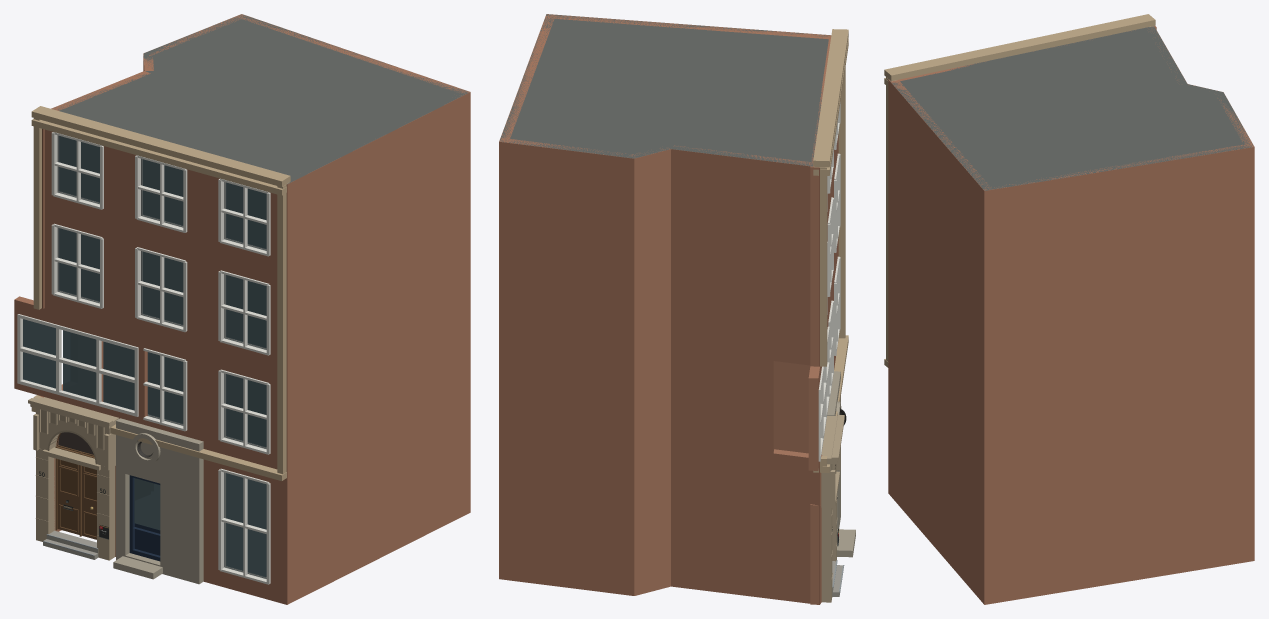
File: 50l-exterior-23815fb31fcf.glb
3 renders of one model, left to right at view 1: azimuth 30°, elevation 25°; view 2: azimuth 150°, elevation 25°; view 3: azimuth 270°, elevation 25°, orthographic. The views are drawn at different scales.
Parts seen in each view (by area): view 1: 50L.001; view 2: 50L.001; view 3: 50L.001.
Boxes of the visible parts, bbox=[...] form: 50L.001: bbox=[14, 14, 470, 604]; 50L.001: bbox=[499, 14, 855, 604]; 50L.001: bbox=[884, 14, 1254, 604].
Bounding box in the file's own units: 11.07 × 12.48 × 9.97.
